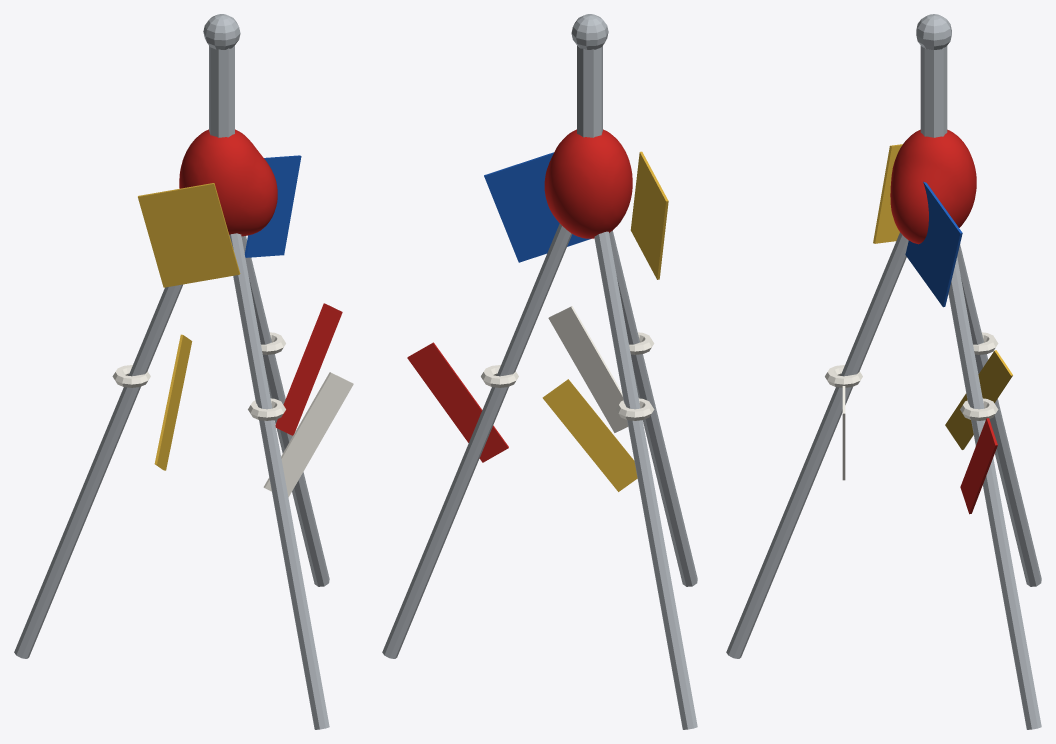
Rendered from summit.glb.
3 views of the same model, side by side, from view 1: azimuth 30°, elevation 25°; view 2: azimuth 150°, elevation 25°; view 3: azimuth 270°, elevation 25° (orthographic).
Parts seen in each view (by area): view 1: steel0, gold13, red11, steel2, steel1, khata6, red8, blue12, steel3, gold10, steel4, khata9 (+1 smaller); view 2: steel2, red11, steel1, blue12, steel0, gold10, red8, khata6, gold13, steel3, steel4, khata7 (+1 smaller); view 3: steel0, red11, steel1, steel2, blue12, steel3, gold10, red8, gold13, steel4, khata5, khata7.
Part boxes in pixels (x1=…): steel0: x1=229, y1=233, x2=329, y2=729; gold13: x1=138, y1=183, x2=240, y2=287; red11: x1=179, y1=129, x2=277, y2=236; steel2: x1=14, y1=284, x2=183, y2=658; steel1: x1=241, y1=236, x2=329, y2=586; khata6: x1=263, y1=372, x2=353, y2=497; red8: x1=275, y1=303, x2=342, y2=435; blue12: x1=244, y1=155, x2=301, y2=257; steel3: x1=209, y1=45, x2=234, y2=137; gold10: x1=154, y1=334, x2=192, y2=470; steel4: x1=203, y1=14, x2=240, y2=50; khata9: x1=112, y1=365, x2=150, y2=387; steel2: x1=594, y1=231, x2=697, y2=729; red11: x1=544, y1=129, x2=632, y2=238; steel1: x1=382, y1=223, x2=572, y2=658; blue12: x1=484, y1=152, x2=591, y2=262; steel0: x1=609, y1=230, x2=697, y2=586; gold10: x1=542, y1=379, x2=637, y2=491; red8: x1=407, y1=342, x2=508, y2=462; khata6: x1=548, y1=306, x2=628, y2=432; gold13: x1=630, y1=151, x2=668, y2=279; steel3: x1=577, y1=45, x2=602, y2=137; steel4: x1=571, y1=14, x2=608, y2=50; khata7: x1=481, y1=365, x2=518, y2=387; steel0: x1=726, y1=232, x2=908, y2=658; red11: x1=890, y1=129, x2=976, y2=244; steel1: x1=948, y1=257, x2=1041, y2=729; steel2: x1=957, y1=244, x2=1041, y2=586; blue12: x1=905, y1=181, x2=962, y2=307; steel3: x1=920, y1=46, x2=947, y2=137; gold10: x1=945, y1=350, x2=1012, y2=449; red8: x1=960, y1=418, x2=997, y2=514; gold13: x1=873, y1=144, x2=902, y2=243; steel4: x1=916, y1=14, x2=951, y2=49; khata5: x1=825, y1=365, x2=862, y2=387; khata7: x1=960, y1=398, x2=998, y2=420.
Bounding box in the file's own units: 1.35 × 2.65 × 1.18.
